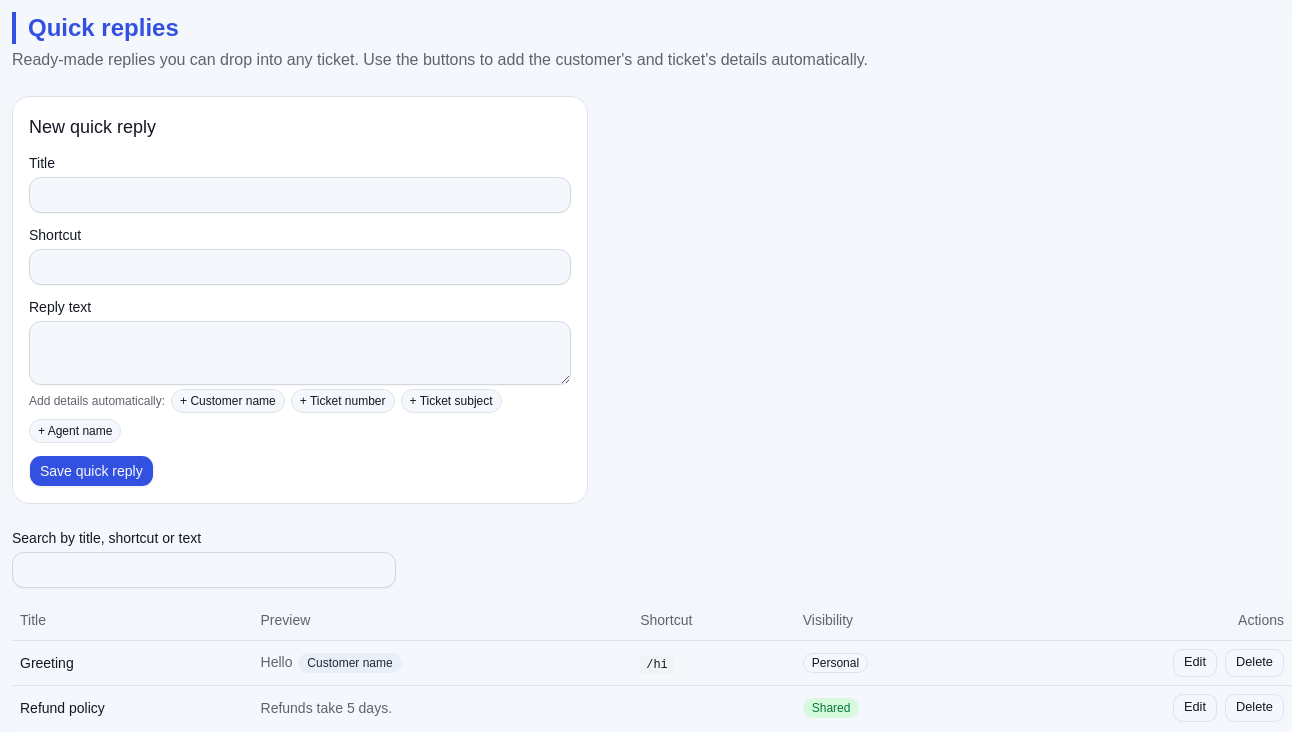
Test: QuickRepliesPage › inserts a token at the caret and keeps focus after it
Check: the row "Greeting Hello Customer name /hi Personal Edit Delete" is shown, box [12,640,1291,685]
Type "Hello , welcome" into the text box labelled "Reply text" at (300, 353), box [29,321,571,385]
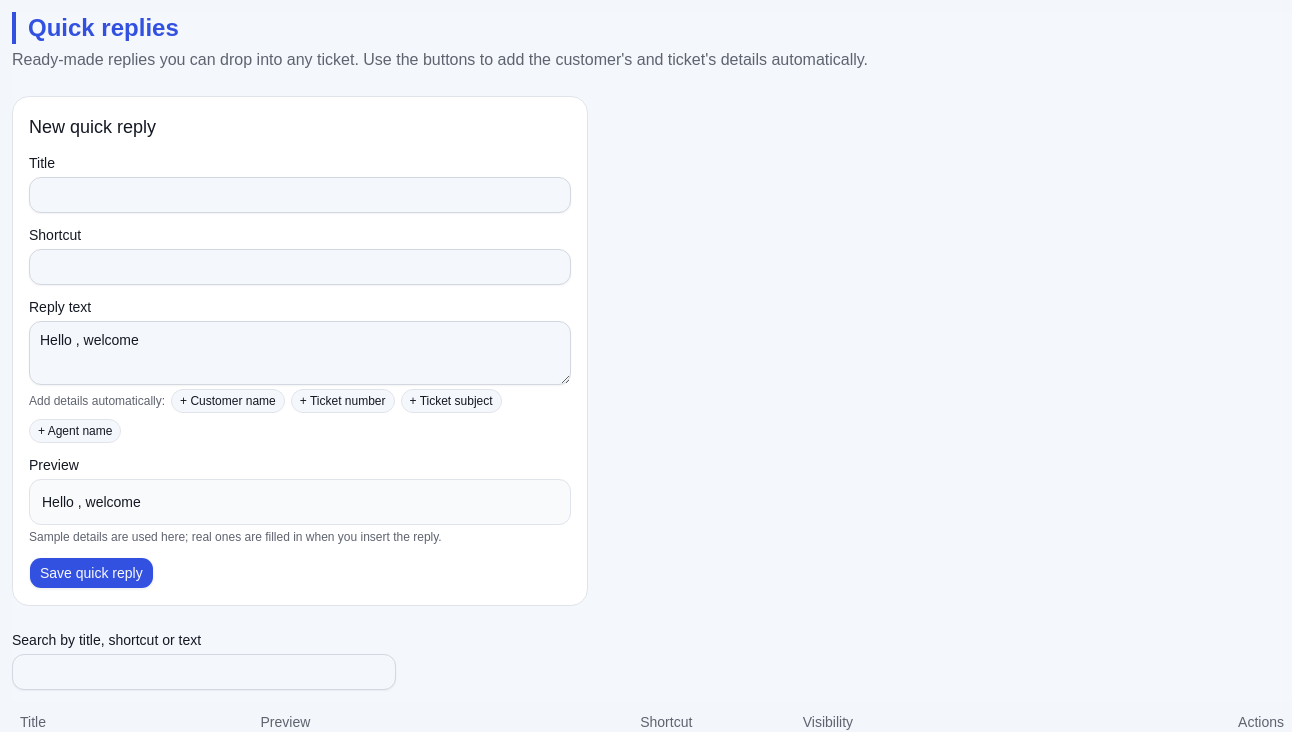
Click the button with aria-label "Insert Customer name" at (228, 401), box [171,389,285,413]
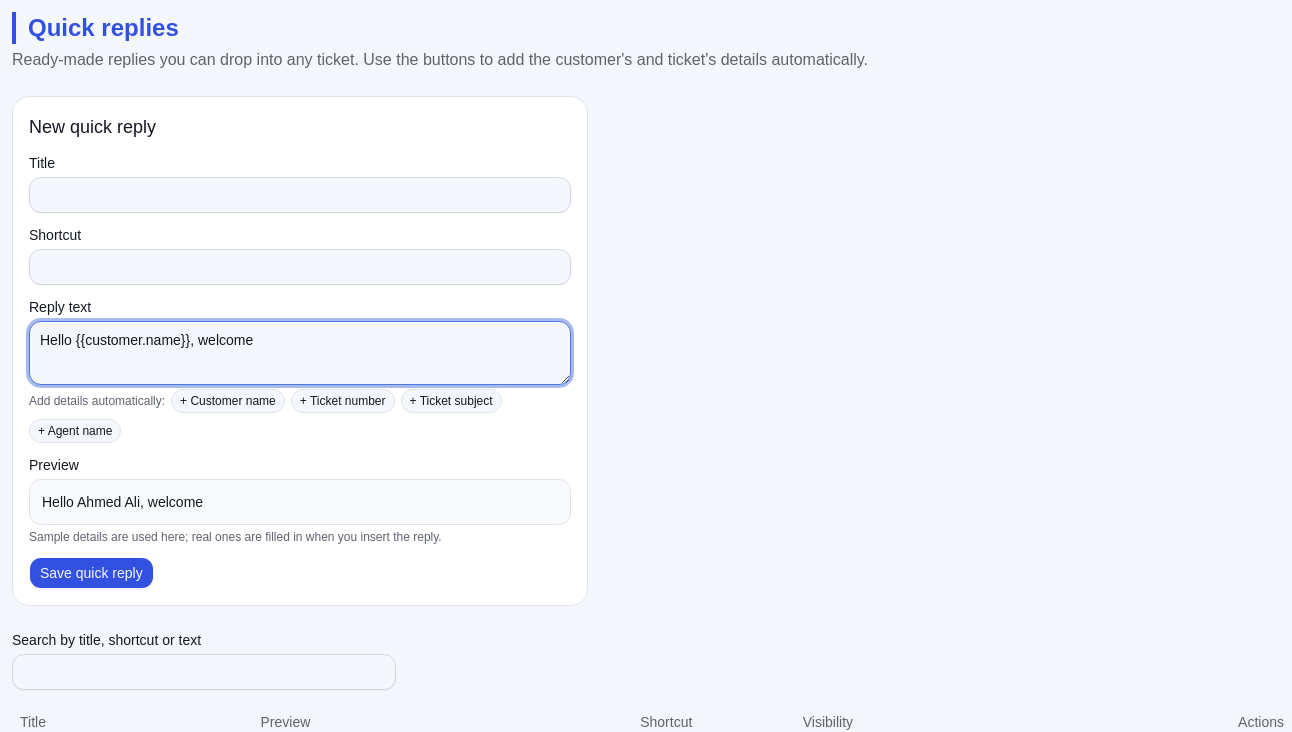
Check: the text box labelled "Reply text" holds "Hello {{customer.name}}, welcome", box [29,321,571,385]
